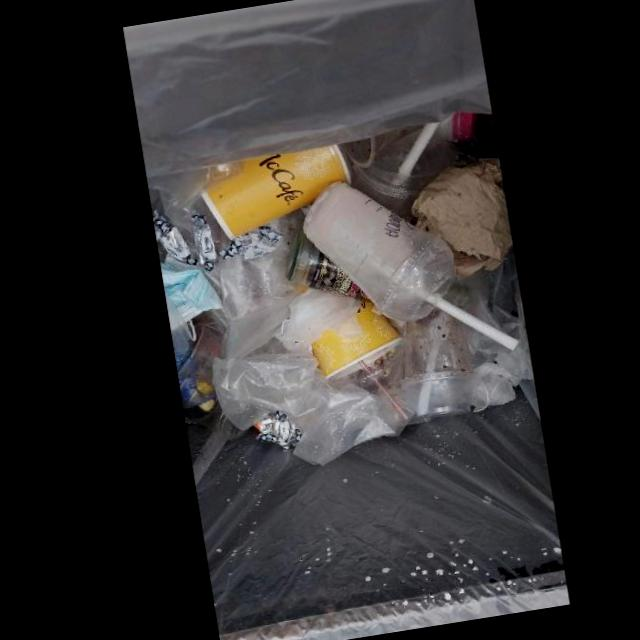bao_bi_thuc_pham: (153, 210, 198, 266), (217, 228, 283, 260), (257, 411, 302, 448), (191, 214, 216, 271)
chai_thuy_tinh: (286, 225, 374, 304)
giay: (203, 146, 352, 240), (413, 159, 513, 277), (312, 302, 402, 380)
hop_nhua: (304, 181, 455, 320), (352, 128, 449, 217), (401, 307, 477, 417)
khau_trang: (160, 255, 223, 341)
ong_hut_nhua: (435, 298, 519, 350), (358, 361, 409, 420), (397, 123, 439, 175)
tui_ni_long: (212, 293, 437, 464)
